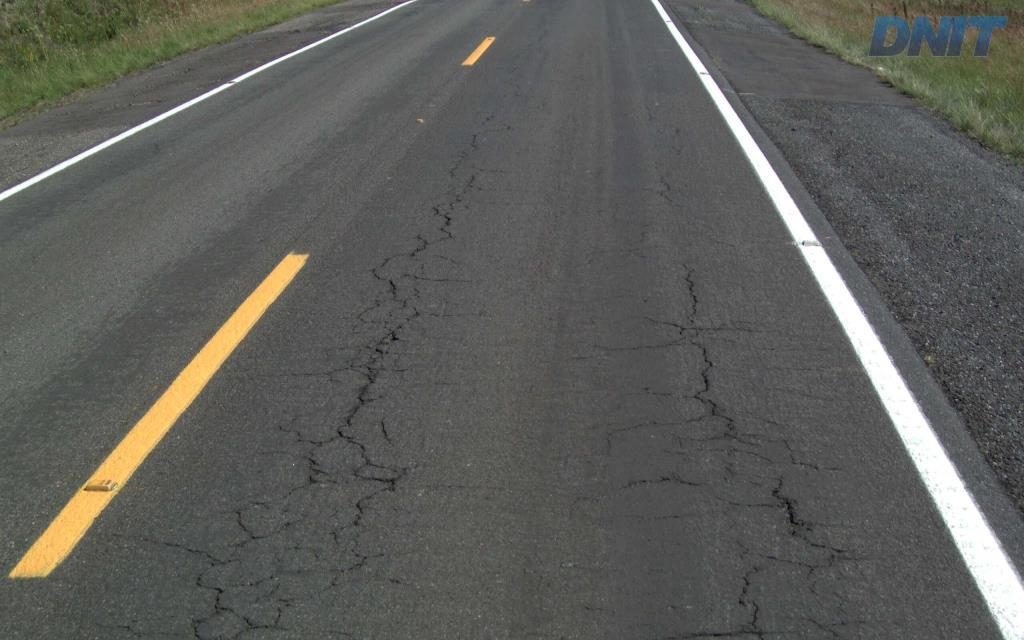crack: (307, 353, 407, 492), (756, 475, 864, 580), (660, 565, 785, 639), (691, 342, 745, 443), (190, 572, 234, 639), (231, 606, 288, 639)
